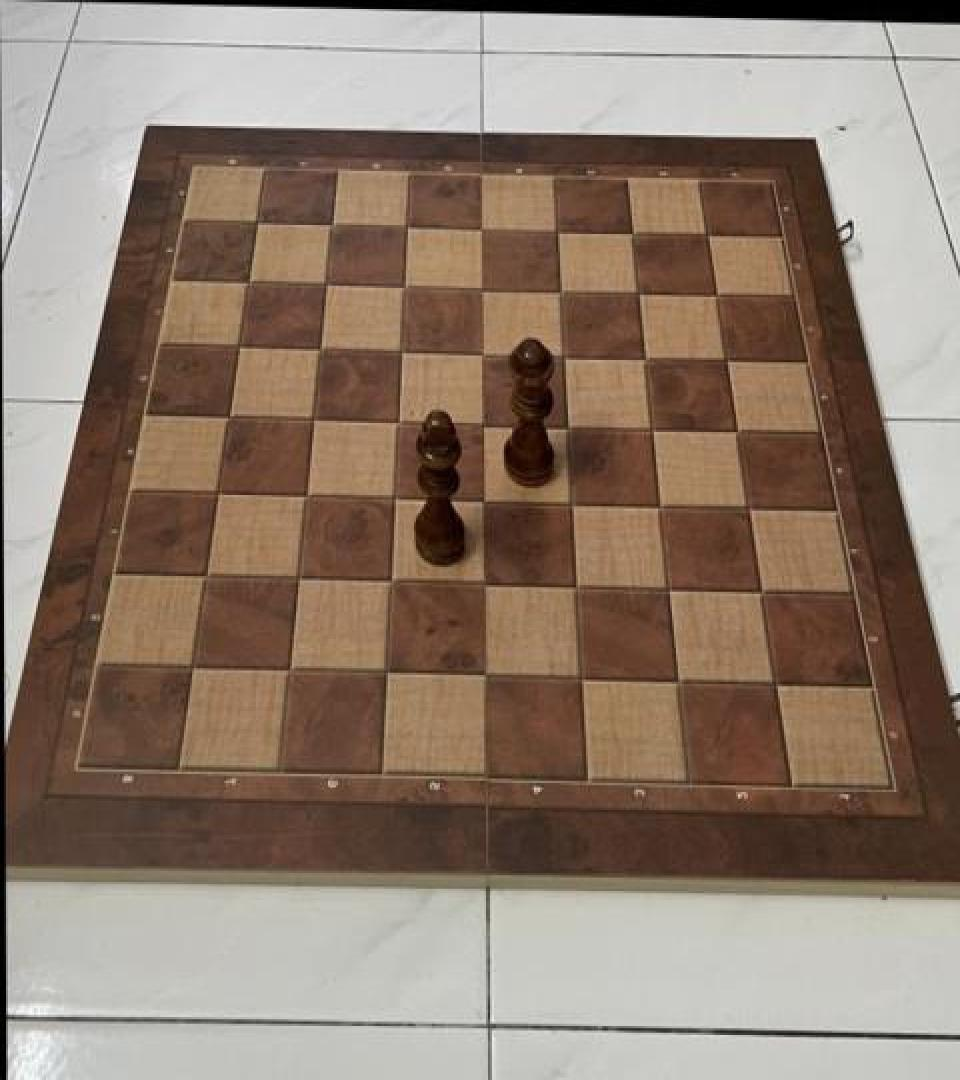xcorner: (622, 272, 656, 311), (297, 400, 331, 439), (274, 650, 308, 689), (241, 204, 275, 242), (316, 206, 350, 244), (391, 207, 425, 245), (466, 210, 500, 248), (541, 210, 575, 248), (617, 213, 651, 251), (692, 214, 726, 252), (233, 264, 267, 302), (310, 266, 344, 304), (388, 268, 422, 306), (466, 269, 500, 307), (544, 271, 578, 309), (701, 274, 735, 312), (223, 328, 257, 366), (304, 331, 338, 369), (385, 332, 419, 370), (466, 334, 500, 372), (547, 336, 581, 374), (629, 338, 663, 376), (710, 340, 744, 378), (213, 398, 247, 436), (382, 403, 416, 441), (466, 404, 500, 442), (551, 406, 585, 444), (635, 408, 669, 446), (720, 411, 754, 449), (202, 475, 236, 513), (290, 477, 324, 515), (378, 480, 412, 518), (466, 480, 500, 518), (555, 483, 589, 521), (643, 485, 677, 523), (731, 487, 765, 525), (190, 557, 224, 595), (282, 559, 316, 597), (374, 562, 408, 600), (466, 564, 500, 602), (559, 566, 593, 604), (651, 568, 685, 606), (743, 570, 777, 608), (177, 648, 211, 686), (370, 652, 404, 690), (466, 655, 500, 693), (563, 658, 597, 696), (660, 660, 694, 698), (757, 663, 791, 701)
